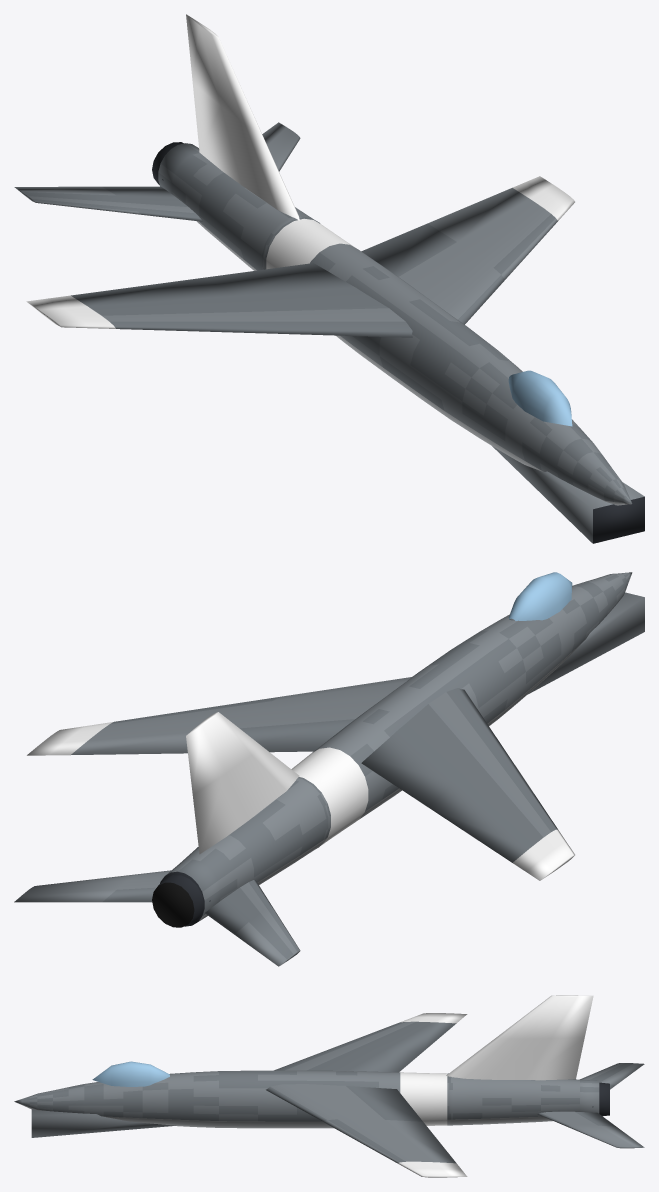
3 renders of one model, top to bottom at view 1: azimuth 30°, elevation 25°; view 2: azimuth 150°, elevation 25°; view 3: azimuth 270°, elevation 25°, orthographic. The views are drawn at different scales.
Parts seen in each view (by area): view 1: body; view 2: body; view 3: body.
Part boxes in pixels (x1=…): body: x1=14, y1=14, x2=644, y2=543; body: x1=14, y1=572, x2=644, y2=966; body: x1=14, y1=995, x2=644, y2=1177.
Bounding box in the file's own units: 10.87 × 4.18 × 17.82.
